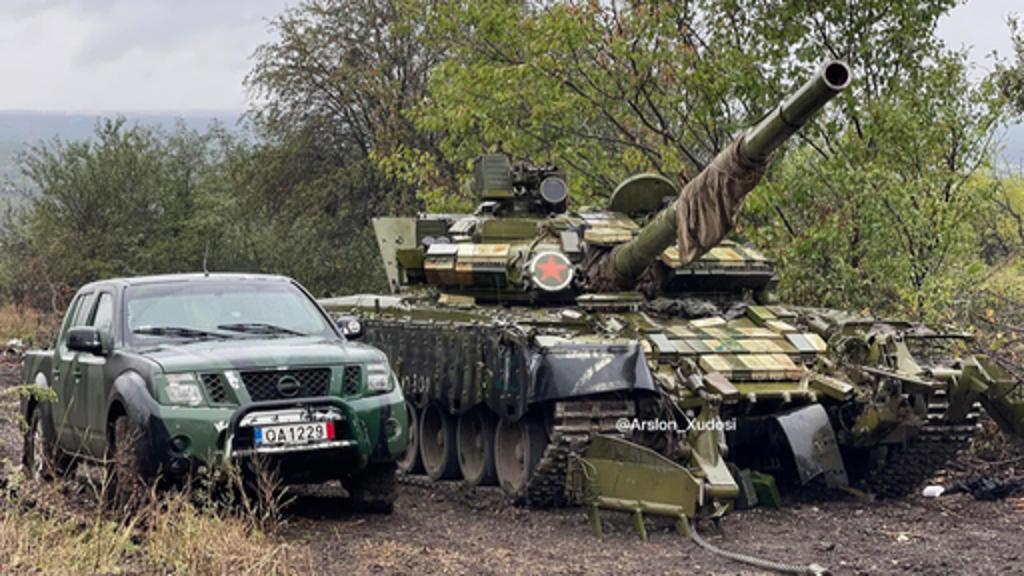CAR: (14, 266, 402, 518)
TANK: (298, 58, 978, 504)
